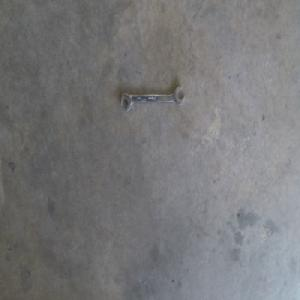Wrench: (120, 86, 184, 112)
